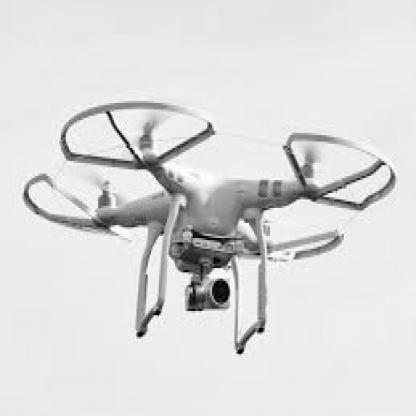UAS: (23, 101, 396, 356)
